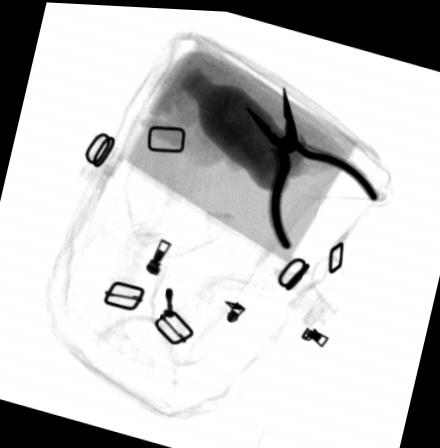Pliers: (243, 82, 380, 247)
